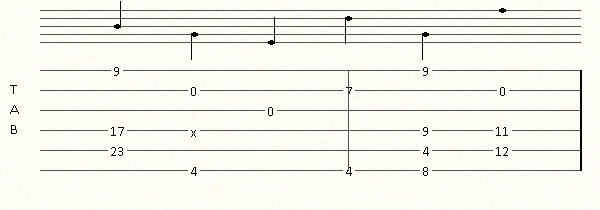0: (190, 84, 201, 97), (267, 104, 278, 117), (499, 84, 510, 97)
11: (495, 124, 513, 137)
12: (495, 144, 513, 157)
17: (110, 124, 128, 137)
23: (110, 144, 128, 157)
4: (190, 164, 201, 177), (345, 164, 356, 177), (422, 144, 433, 157)
7: (345, 84, 356, 97)
8: (422, 164, 433, 177)
9: (113, 64, 124, 77), (422, 124, 433, 137), (422, 64, 433, 77)
x: (190, 125, 201, 136)
